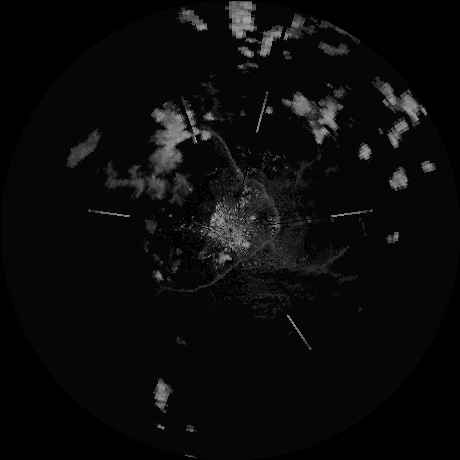frontgust: (255, 179, 280, 231), (217, 134, 243, 180)
